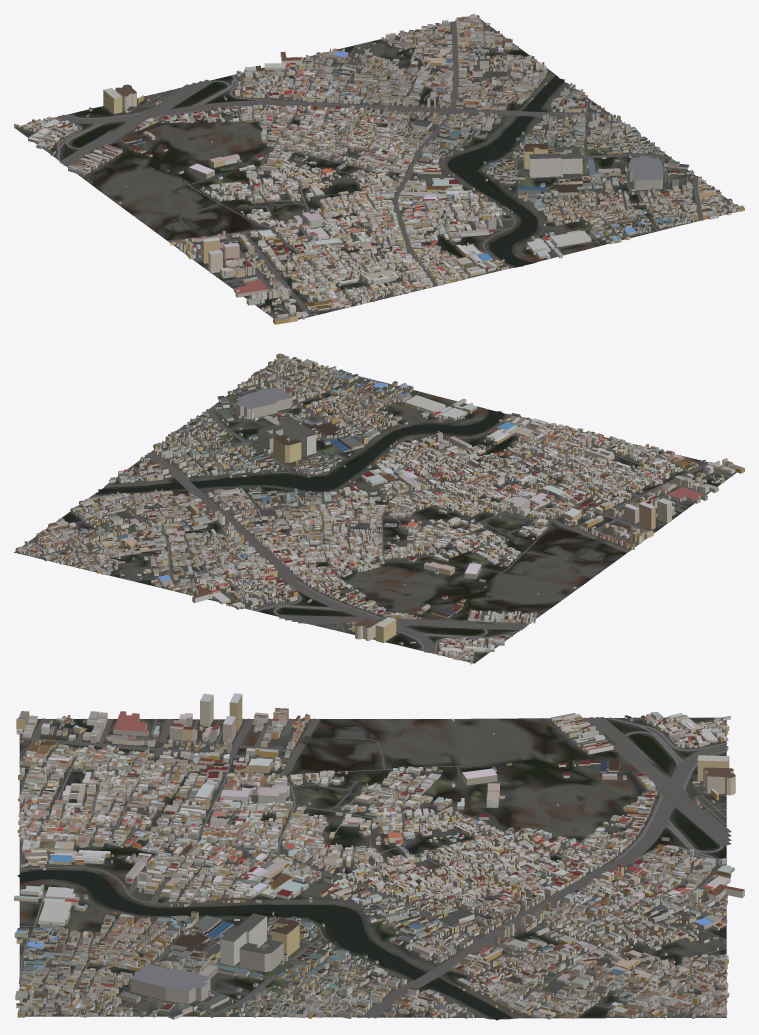
The picture shows the model from 3 angles, top to bottom: view 1: azimuth 30°, elevation 25°; view 2: azimuth 150°, elevation 25°; view 3: azimuth 270°, elevation 25°; orthographic projection. The views are drawn at different scales.
Visible parts, largest first — view 1: buildings, ground, roads, water; view 2: buildings, ground, roads, water; view 3: buildings, ground, roads, water.
Part boxes in pixels (x1,y1,x2,y2): buildings: (14,14,744,324); ground: (14,20,735,319); roads: (22,19,725,318); water: (448,75,564,266); buildings: (15,353,744,664); ground: (14,359,736,663); roads: (30,362,736,661); water: (95,409,503,493); buildings: (14,693,744,1019); ground: (19,717,726,1019); roads: (18,717,731,1018); water: (17,870,512,1020).
Bounding box in the file's own units: 1430 × 68.68 × 1448.
